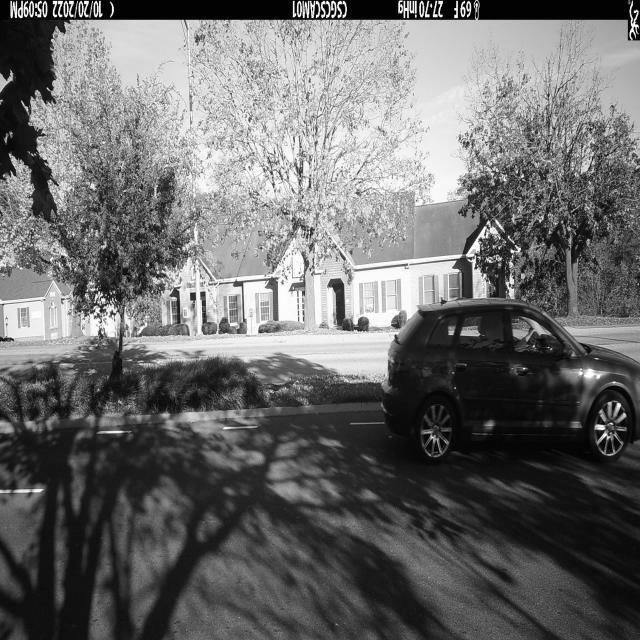Hatchback: (381, 298, 640, 463)
